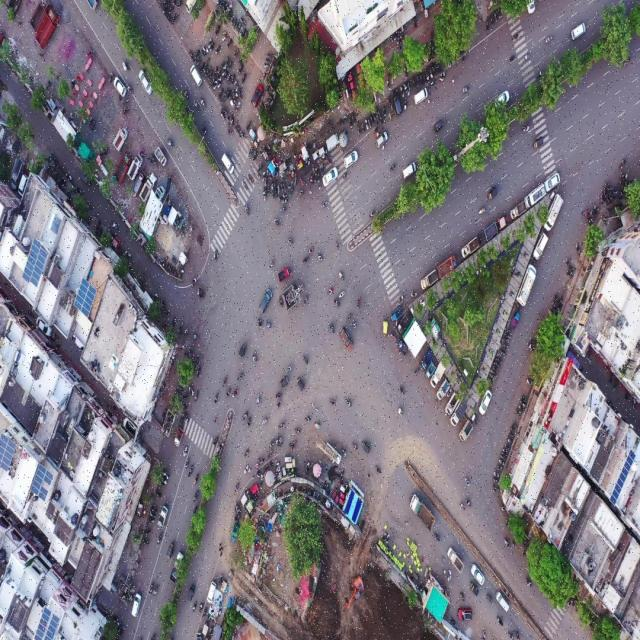3W: (164, 540, 176, 562), (487, 185, 498, 205), (360, 438, 372, 456), (186, 582, 196, 603), (237, 341, 249, 358), (533, 133, 544, 151), (381, 316, 389, 340), (433, 118, 445, 134), (280, 372, 289, 392), (468, 581, 478, 598), (296, 376, 305, 393)
Cars: (258, 285, 273, 315), (534, 231, 549, 260), (568, 22, 587, 44), (138, 67, 152, 96), (495, 588, 511, 613), (188, 64, 204, 89), (339, 326, 353, 352), (130, 589, 143, 617), (391, 89, 402, 120), (221, 150, 235, 174), (471, 561, 485, 584), (322, 166, 338, 186), (480, 389, 492, 415), (343, 150, 360, 168), (251, 83, 264, 106), (204, 580, 217, 603), (412, 88, 428, 106), (545, 172, 560, 191), (402, 160, 416, 180), (114, 76, 126, 98), (376, 132, 392, 148), (457, 609, 473, 623)
LCV: (517, 265, 537, 306), (546, 193, 563, 231), (523, 182, 546, 208), (437, 254, 458, 279), (447, 545, 464, 572), (139, 174, 156, 201), (451, 402, 468, 428), (431, 362, 447, 389), (325, 442, 343, 466), (420, 269, 438, 291), (113, 126, 128, 152), (459, 237, 480, 254), (129, 154, 143, 179), (511, 198, 527, 219), (445, 393, 458, 418), (133, 172, 146, 197), (277, 262, 293, 282), (435, 380, 449, 402), (421, 349, 435, 371), (157, 505, 169, 530), (153, 147, 166, 169), (459, 421, 473, 440), (326, 132, 339, 151), (396, 339, 408, 356), (173, 427, 183, 447), (510, 314, 521, 331), (392, 306, 403, 322), (425, 363, 435, 380)
M2W: (338, 268, 347, 284), (354, 294, 363, 310), (289, 437, 298, 453), (351, 437, 359, 455), (213, 389, 221, 406), (148, 580, 155, 598), (495, 615, 504, 629), (486, 592, 494, 607), (316, 252, 325, 265), (525, 578, 534, 591), (213, 245, 219, 264), (234, 479, 241, 495), (340, 441, 347, 457), (368, 207, 376, 221), (156, 532, 163, 548), (325, 285, 335, 296), (272, 218, 282, 229), (543, 35, 554, 45), (432, 532, 441, 544), (510, 31, 519, 43), (398, 291, 407, 303), (256, 316, 263, 331), (188, 462, 195, 477), (193, 469, 200, 484), (220, 375, 228, 388), (183, 457, 191, 470), (459, 590, 467, 603), (154, 582, 160, 599), (464, 473, 470, 490), (285, 364, 295, 374), (303, 415, 313, 425), (264, 320, 273, 331), (231, 387, 239, 399), (154, 490, 162, 502), (329, 322, 336, 335), (182, 444, 189, 457), (192, 491, 199, 504), (212, 435, 219, 448), (198, 601, 205, 614), (44, 79, 51, 92), (275, 390, 284, 400), (226, 385, 232, 400), (319, 199, 328, 209), (521, 126, 530, 136), (411, 290, 420, 300), (143, 538, 152, 548), (333, 298, 341, 309), (278, 419, 286, 430), (459, 501, 467, 512), (398, 384, 405, 396), (252, 354, 259, 366), (244, 202, 250, 216), (241, 179, 248, 191), (201, 123, 208, 135), (244, 417, 251, 429), (243, 447, 250, 459), (243, 462, 250, 474), (255, 392, 261, 406), (514, 628, 521, 640), (478, 232, 484, 246), (303, 294, 310, 306), (620, 159, 627, 171), (240, 15, 247, 27), (227, 36, 233, 50), (196, 366, 202, 380), (69, 79, 76, 91), (346, 312, 355, 321), (293, 427, 302, 436), (501, 342, 510, 351), (275, 400, 283, 410), (522, 52, 530, 62), (334, 239, 340, 252), (167, 136, 173, 149), (191, 599, 197, 612), (278, 296, 284, 309), (305, 460, 311, 473), (215, 22, 221, 35), (188, 384, 194, 397), (202, 607, 208, 620), (345, 398, 352, 409), (237, 370, 244, 381), (261, 416, 268, 427), (508, 53, 515, 64), (338, 289, 346, 298), (200, 96, 206, 108), (183, 88, 189, 100), (122, 60, 128, 72), (194, 390, 200, 402), (302, 255, 310, 264), (279, 206, 288, 214), (191, 275, 197, 287), (330, 398, 337, 408), (242, 411, 249, 421), (375, 465, 382, 475), (507, 630, 514, 640), (390, 162, 397, 172), (303, 355, 309, 366), (465, 497, 471, 508), (504, 539, 510, 550), (342, 170, 348, 181), (288, 179, 294, 190), (234, 47, 240, 58), (221, 31, 227, 42), (207, 38, 213, 49), (204, 63, 210, 74), (180, 411, 185, 424), (122, 106, 130, 114), (307, 246, 315, 254), (286, 238, 294, 246), (526, 379, 534, 387), (202, 46, 210, 54), (352, 320, 359, 329), (537, 69, 544, 78), (505, 437, 512, 446), (514, 408, 521, 417), (495, 357, 504, 364), (550, 306, 559, 313), (429, 79, 436, 88), (297, 189, 304, 198), (240, 131, 247, 140), (127, 85, 133, 95), (269, 258, 275, 268), (269, 438, 275, 448), (403, 83, 408, 95), (230, 14, 235, 26), (215, 45, 221, 55), (208, 71, 213, 83), (188, 51, 194, 61), (172, 13, 178, 23), (195, 354, 199, 369), (185, 413, 191, 423), (91, 120, 96, 132), (88, 116, 94, 126), (478, 207, 486, 214), (497, 459, 504, 467), (502, 449, 510, 456), (517, 404, 525, 411), (498, 349, 506, 356), (485, 18, 489, 32), (463, 86, 470, 94), (247, 175, 254, 183), (227, 128, 234, 136), (143, 531, 151, 538), (147, 517, 155, 524), (194, 100, 199, 111), (241, 73, 246, 84), (217, 78, 222, 89), (491, 479, 500, 485), (214, 9, 220, 18), (109, 71, 113, 84), (490, 14, 494, 27), (400, 85, 404, 98), (348, 117, 352, 130), (289, 187, 294, 197), (258, 164, 263, 174), (248, 147, 253, 157), (238, 64, 243, 74), (186, 105, 191, 115), (493, 487, 500, 494), (497, 465, 504, 472), (200, 49, 207, 56), (149, 511, 156, 518), (492, 472, 500, 478), (429, 67, 433, 79), (387, 96, 391, 108), (352, 114, 356, 126), (235, 19, 239, 31), (196, 47, 200, 59), (150, 506, 158, 512), (325, 156, 330, 165), (246, 121, 251, 130), (427, 72, 431, 83), (387, 80, 391, 91), (361, 123, 365, 134), (239, 27, 243, 38), (152, 154, 156, 165), (122, 98, 129, 104), (499, 455, 506, 461), (520, 401, 526, 408), (492, 366, 499, 372), (582, 211, 589, 217), (416, 75, 419, 89), (267, 450, 272, 458), (299, 176, 303, 186), (239, 54, 243, 64), (148, 156, 152, 166), (498, 7, 501, 20), (424, 74, 427, 87), (420, 75, 423, 88), (378, 109, 381, 122), (375, 107, 378, 120), (494, 11, 497, 23), (435, 64, 438, 76), (404, 98, 407, 110), (358, 125, 361, 137), (365, 118, 368, 130), (375, 121, 378, 133), (383, 106, 386, 118), (368, 118, 371, 130), (318, 171, 321, 183), (294, 176, 297, 188), (278, 183, 281, 195), (272, 193, 278, 199), (262, 170, 265, 182), (238, 23, 241, 35), (211, 42, 215, 51), (214, 81, 218, 90), (407, 79, 410, 90), (371, 115, 374, 126), (503, 335, 511, 339), (220, 61, 224, 69), (438, 63, 441, 73), (433, 66, 436, 76), (412, 78, 415, 88), (278, 198, 284, 203), (504, 330, 511, 334), (274, 183, 277, 192)
Truck: (408, 495, 435, 533), (36, 9, 59, 48), (114, 151, 130, 184)
